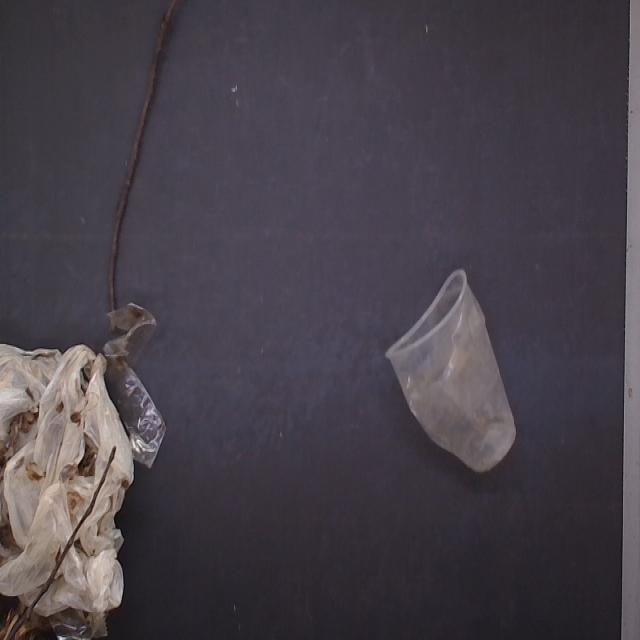plastic_cups: (388, 272, 524, 472)
plastic_films: (0, 316, 169, 640)
